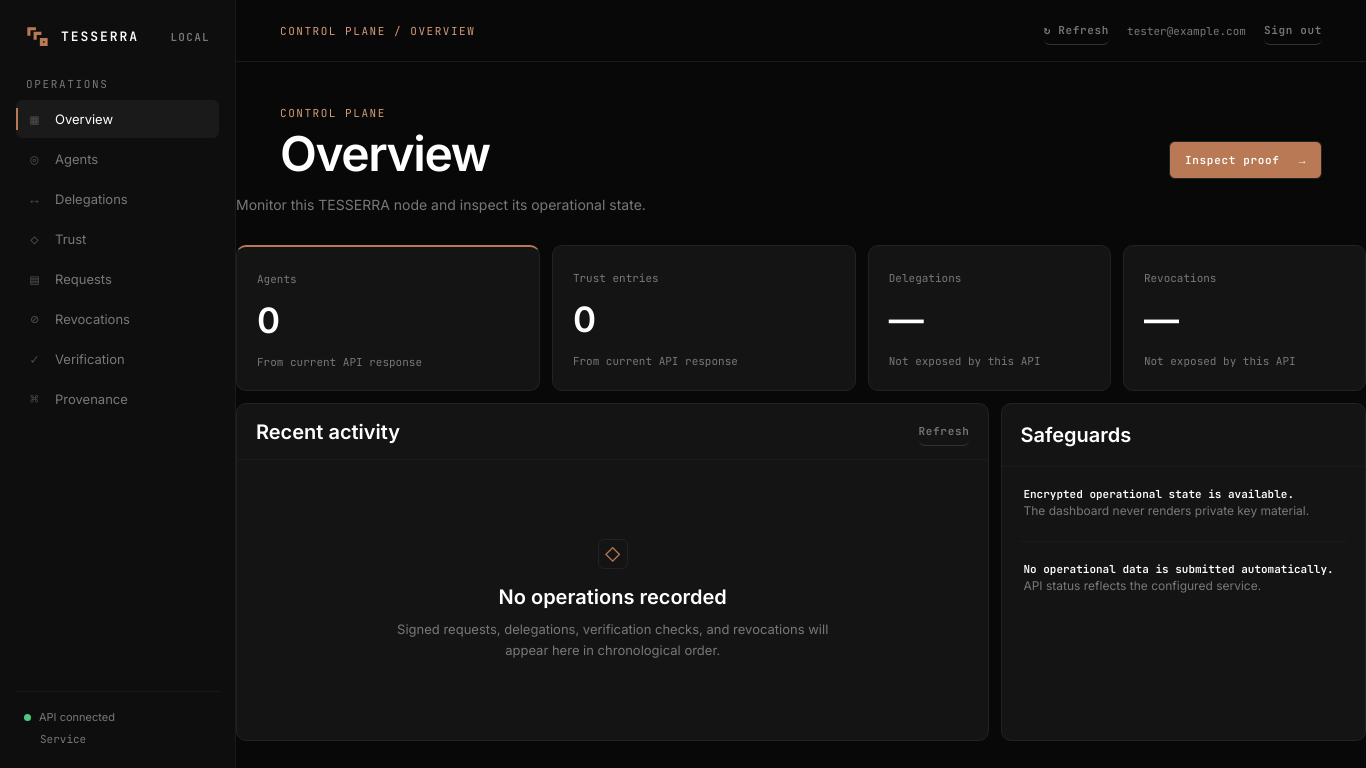
Test: dashboard › renders truthful empty API states and route navigation
Expected: the heading "No operations recorded" is shown, [498,584,727,610]
Click the button "◎ Agents". click: (118, 159)
box: [16,140,219,178]
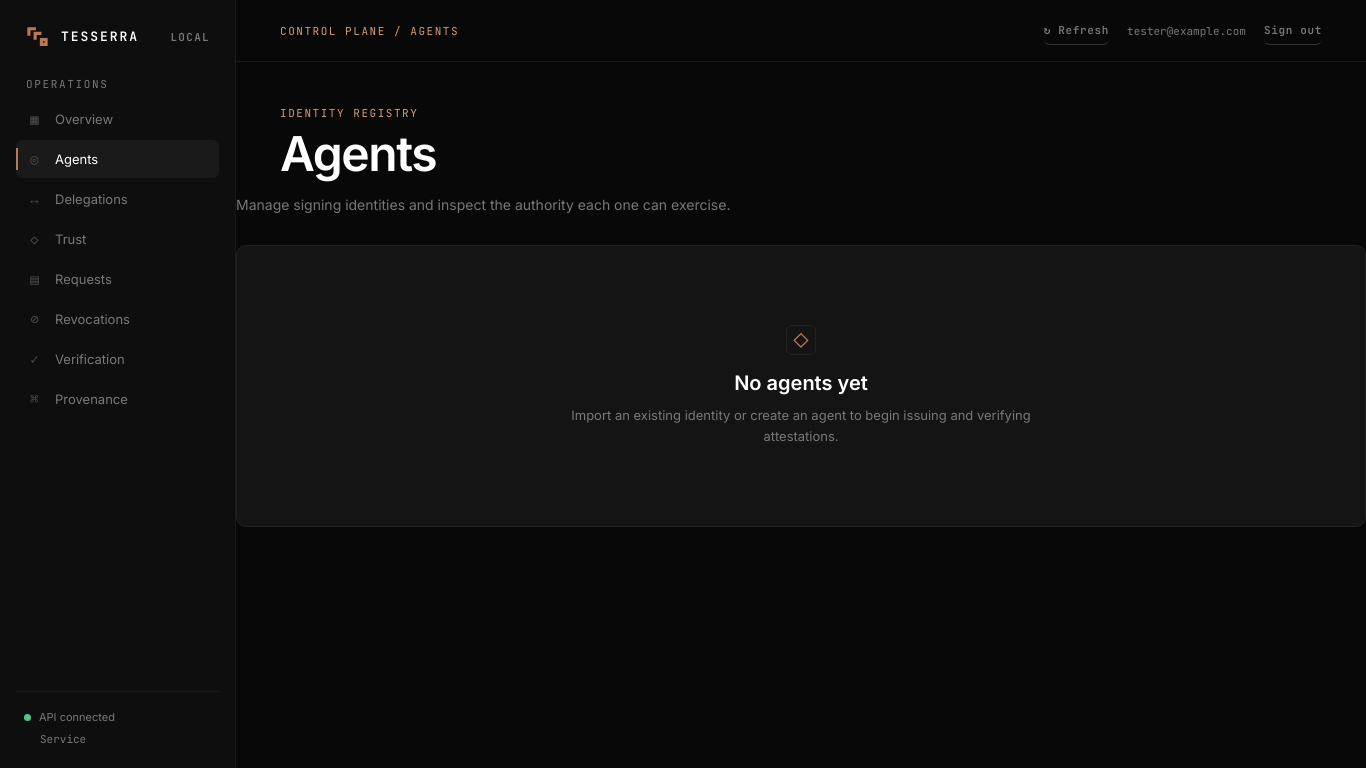
Expected: the heading "No agents yet" is shown, [734,370,868,396]
